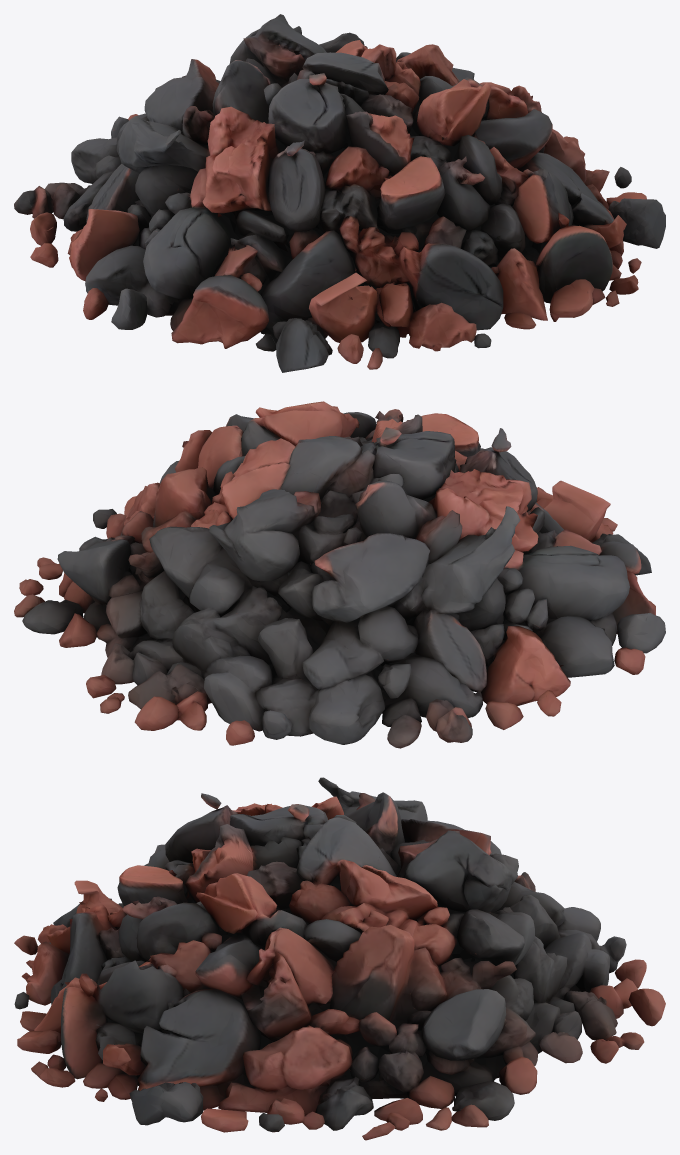
Rendered from lod_basic_shaded.fbx.
3 views of the same model, one above another, from view 1: azimuth 30°, elevation 25°; view 2: azimuth 150°, elevation 25°; view 3: azimuth 270°, elevation 25° (orthographic). The views are drawn at different scales.
Visible parts, largest first — view 1: model_LOD0; view 2: model_LOD0; view 3: model_LOD0.
Boxes of the visible parts, box(x1,y1,x2,y2) form: model_LOD0: box(14, 14, 665, 372); model_LOD0: box(14, 401, 665, 748); model_LOD0: box(14, 777, 665, 1140).
Size of what is drawn, in the model's own units: 187 by 60.97 by 190.
